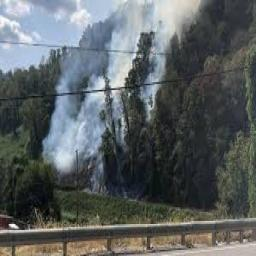Low smoke: (38, 0, 206, 197)
